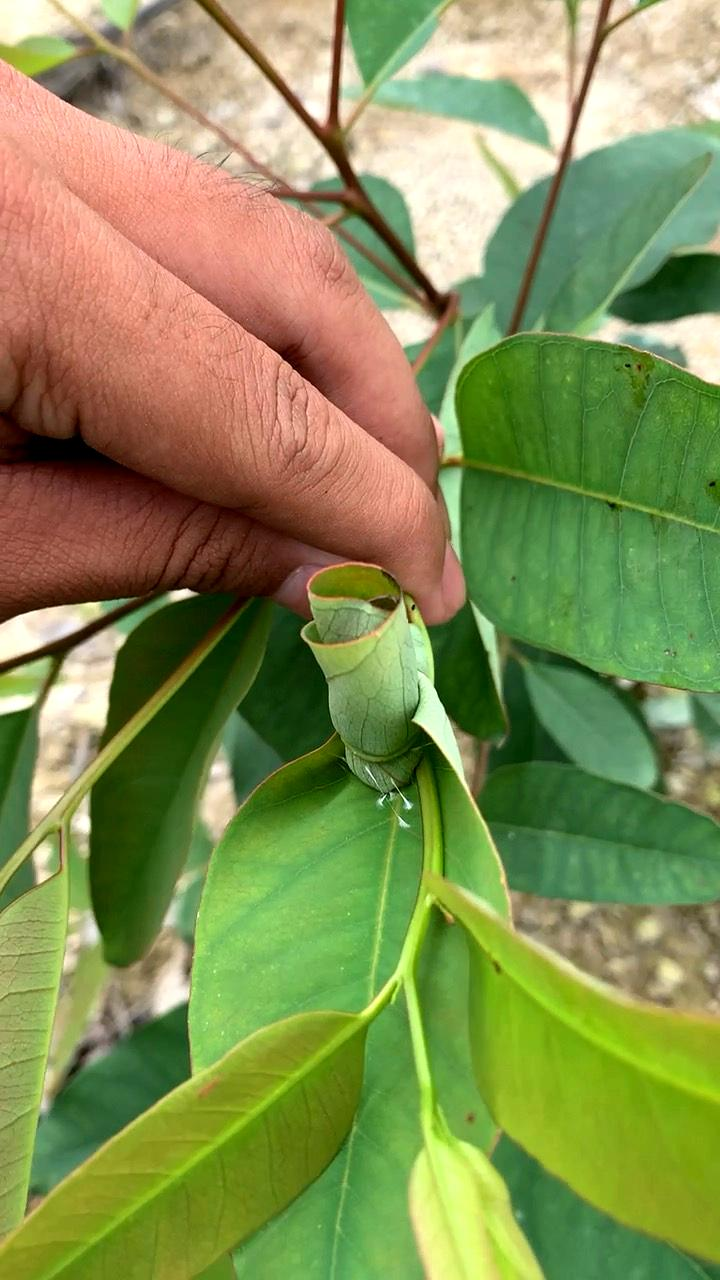Leaf Roller - Leaf: (296, 545, 443, 794)
